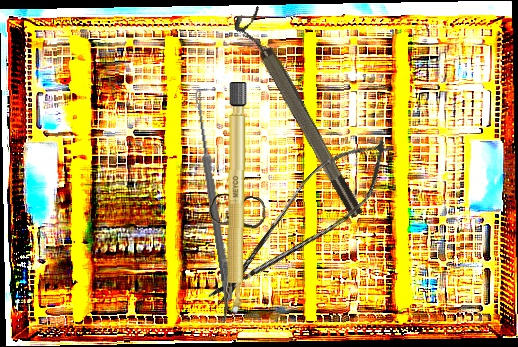Fixation Ring: (230, 6, 367, 225)
Iris Scissors: (199, 192, 267, 324)
Micro Scissor: (194, 119, 409, 325)
Scalpel Handle: (224, 81, 248, 317)
Surgical Spoon: (191, 89, 235, 301)
